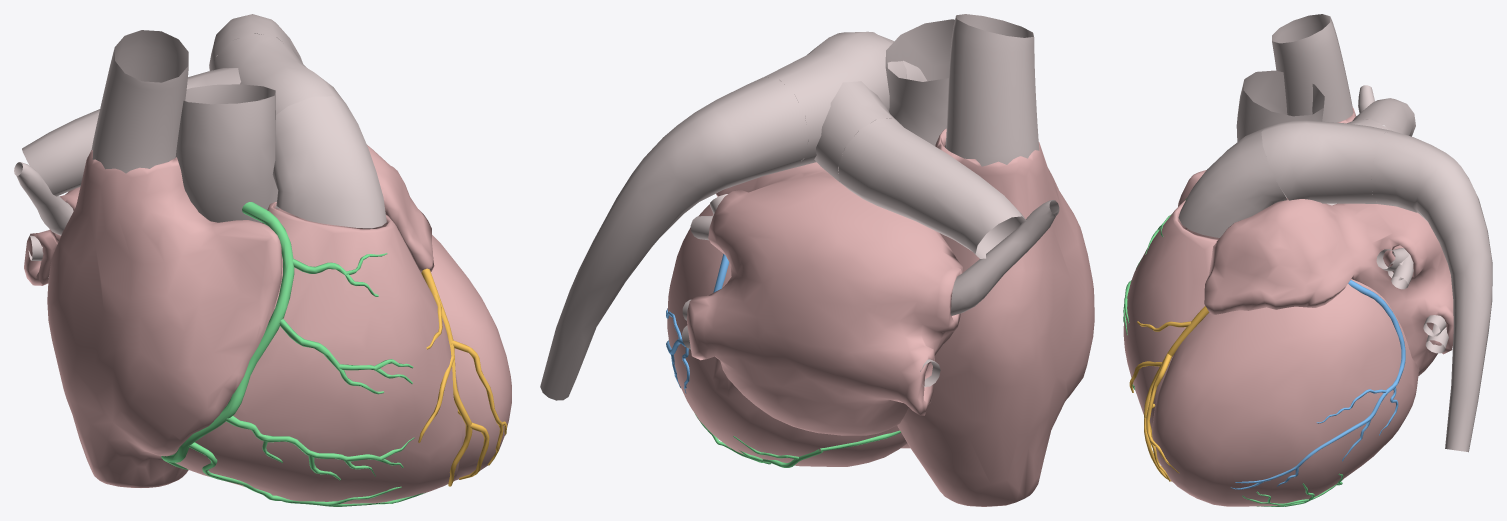
File: zanatomy_heart_standard.glb
The picture shows the model from 3 angles, left to right: view 1: azimuth 30°, elevation 25°; view 2: azimuth 150°, elevation 25°; view 3: azimuth 270°, elevation 25°; orthographic projection. The views are drawn at different scales.
Visible parts, largest first — view 1: right_atrium, right_ventricle, ascending_aorta, pulmonary_trunk, superior_vena_cava, left_ventricle, right_coronary_artery, bifurcation_of_pulmonary_trunk, left_atrium, right_pulmonary_artery, anterior_interventricular_artery, right_superior_pulmonary_vein (+1 smaller); view 2: left_atrium, right_atrium, left_pulmonary_artery, right_pulmonary_artery, left_ventricle, superior_vena_cava, bifurcation_of_pulmonary_trunk, ascending_aorta, right_superior_pulmonary_vein, circumflex_artery_of_heart, right_inferolateral_branch_of_right_coronary_artery; view 3: left_ventricle, left_atrium, left_pulmonary_artery, right_ventricle, bifurcation_of_pulmonary_trunk, pulmonary_trunk, superior_vena_cava, ascending_aorta, circumflex_artery_of_heart, anterior_interventricular_artery, right_pulmonary_artery, left_superior_pulmonary_vein (+2 smaller).
Part boxes in pixels (x1,y1,x2,y2): right_atrium: [47, 150, 282, 487]; right_ventricle: [166, 202, 462, 504]; ascending_aorta: [175, 84, 279, 223]; pulmonary_trunk: [272, 96, 386, 228]; superior_vena_cava: [91, 30, 188, 173]; left_ventricle: [431, 235, 511, 480]; right_coronary_artery: [161, 202, 425, 506]; bifurcation_of_pulmonary_trunk: [186, 33, 345, 114]; left_atrium: [24, 145, 434, 285]; right_pulmonary_artery: [22, 109, 99, 196]; anterior_interventricular_artery: [418, 268, 507, 486]; right_superior_pulmonary_vein: [14, 162, 73, 235]; left_atrium: [687, 162, 962, 435]; right_atrium: [897, 128, 1094, 506]; left_pulmonary_artery: [540, 77, 808, 400]; right_pulmonary_artery: [838, 118, 1026, 258]; left_ventricle: [667, 204, 907, 466]; superior_vena_cava: [945, 14, 1039, 166]; bifurcation_of_pulmonary_trunk: [764, 31, 906, 184]; ascending_aorta: [885, 19, 954, 145]; right_superior_pulmonary_vein: [950, 200, 1059, 315]; circumflex_artery_of_heart: [666, 254, 729, 393]; right_inferolateral_branch_of_right_coronary_artery: [695, 414, 823, 467]; left_ventricle: [1152, 279, 1418, 506]; left_atrium: [1204, 198, 1453, 375]; left_pulmonary_artery: [1371, 130, 1492, 452]; right_ventricle: [1123, 200, 1219, 429]; bifurcation_of_pulmonary_trunk: [1261, 119, 1390, 203]; pulmonary_trunk: [1178, 128, 1287, 237]; superior_vena_cava: [1272, 14, 1353, 122]; ascending_aorta: [1236, 70, 1336, 205]; circumflex_artery_of_heart: [1230, 280, 1405, 489]; anterior_interventricular_artery: [1129, 306, 1209, 481]; right_pulmonary_artery: [1352, 98, 1415, 136]; left_superior_pulmonary_vein: [1376, 248, 1413, 289].
Size of the model in its own units: 1.14 by 1.19 by 1.02.
